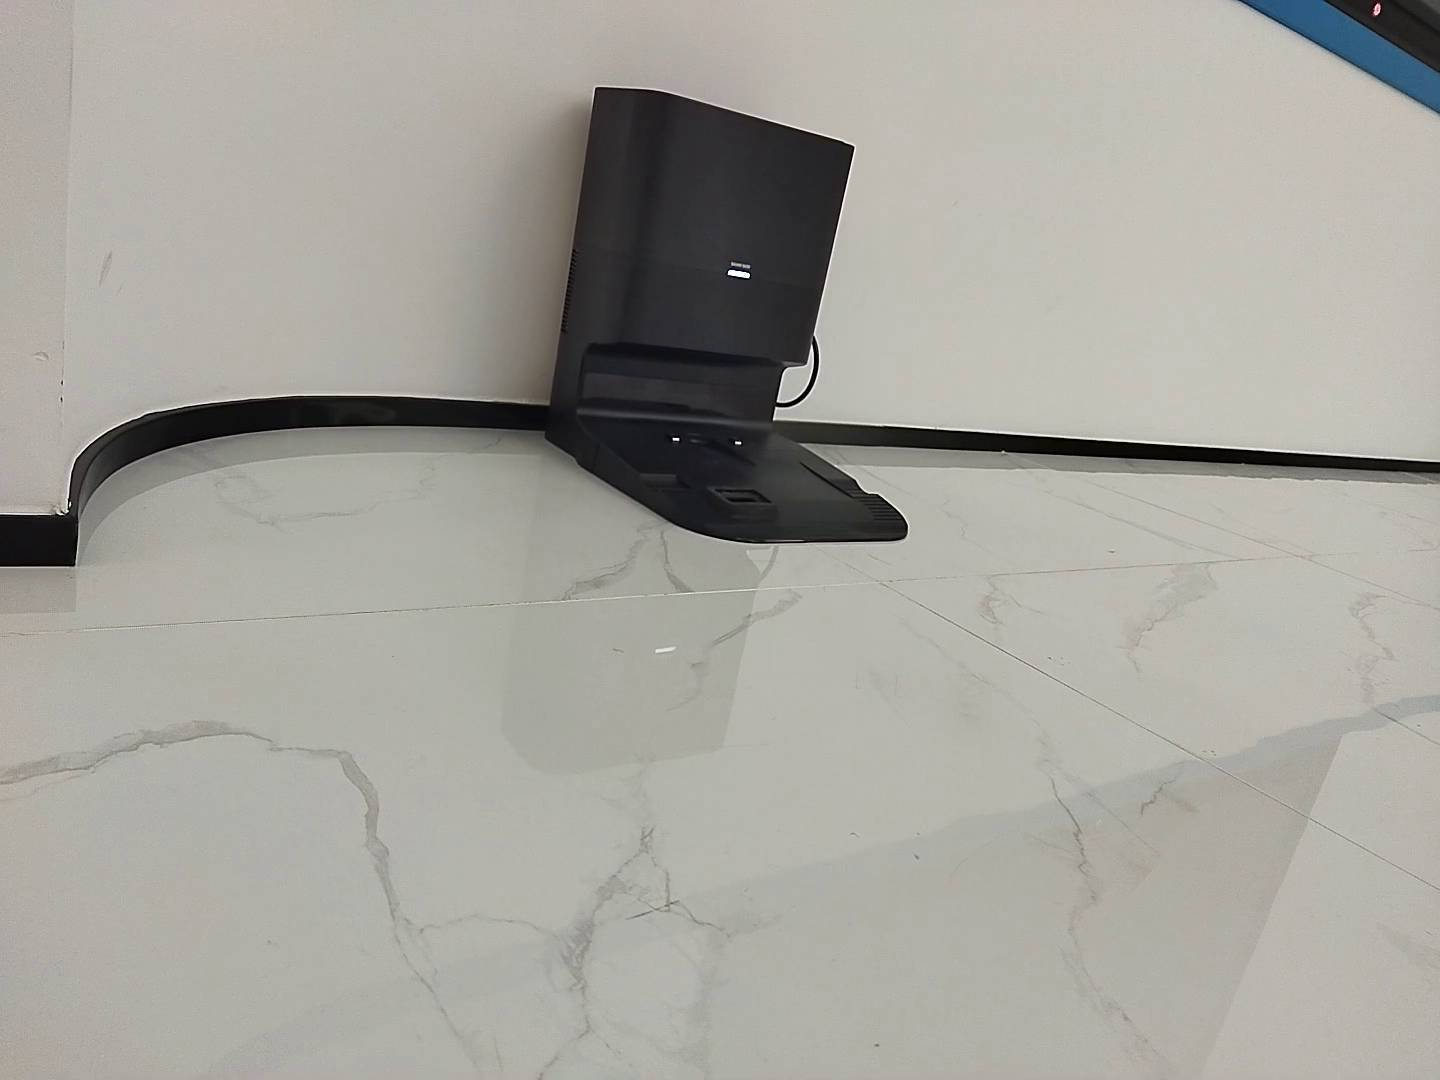dust collecting barrel: (542, 86, 908, 546)
